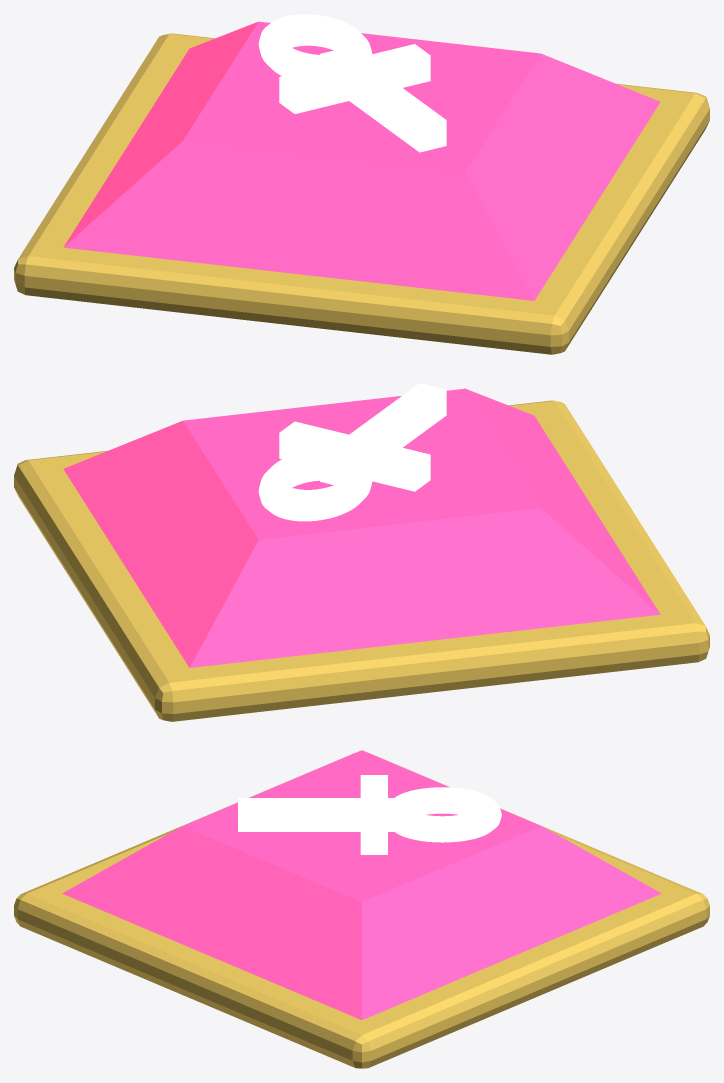
Rendered from SM_Pickup_Life.fbx.
3 renders of one model, top to bottom at view 1: azimuth 30°, elevation 25°; view 2: azimuth 150°, elevation 25°; view 3: azimuth 270°, elevation 25°, orthographic. The views are drawn at different scales.
Visible parts, largest first — view 1: SM_Pickup_Life; view 2: SM_Pickup_Life; view 3: SM_Pickup_Life.
Boxes of the visible parts, <box> form: SM_Pickup_Life: <box>14,14,709,354</box>; SM_Pickup_Life: <box>14,383,709,721</box>; SM_Pickup_Life: <box>14,750,709,1068</box>.
Bounding box in the file's own units: 1.12 × 0.272 × 1.12.
